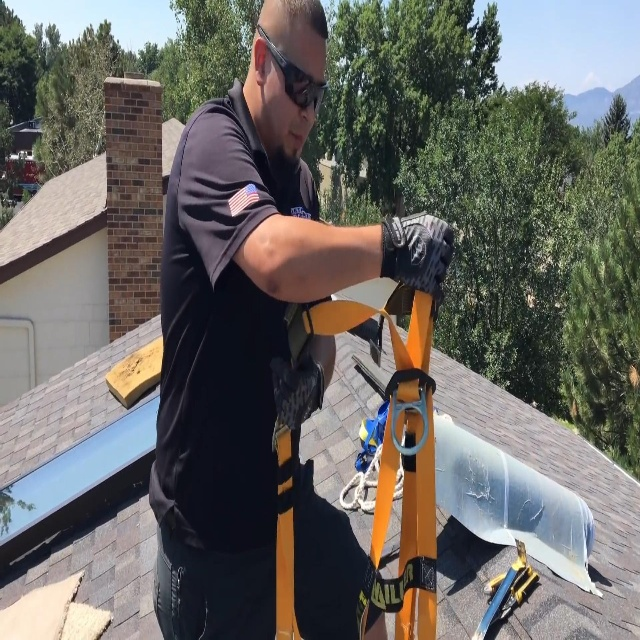Arnes_seguridad: (253, 230, 462, 640)
